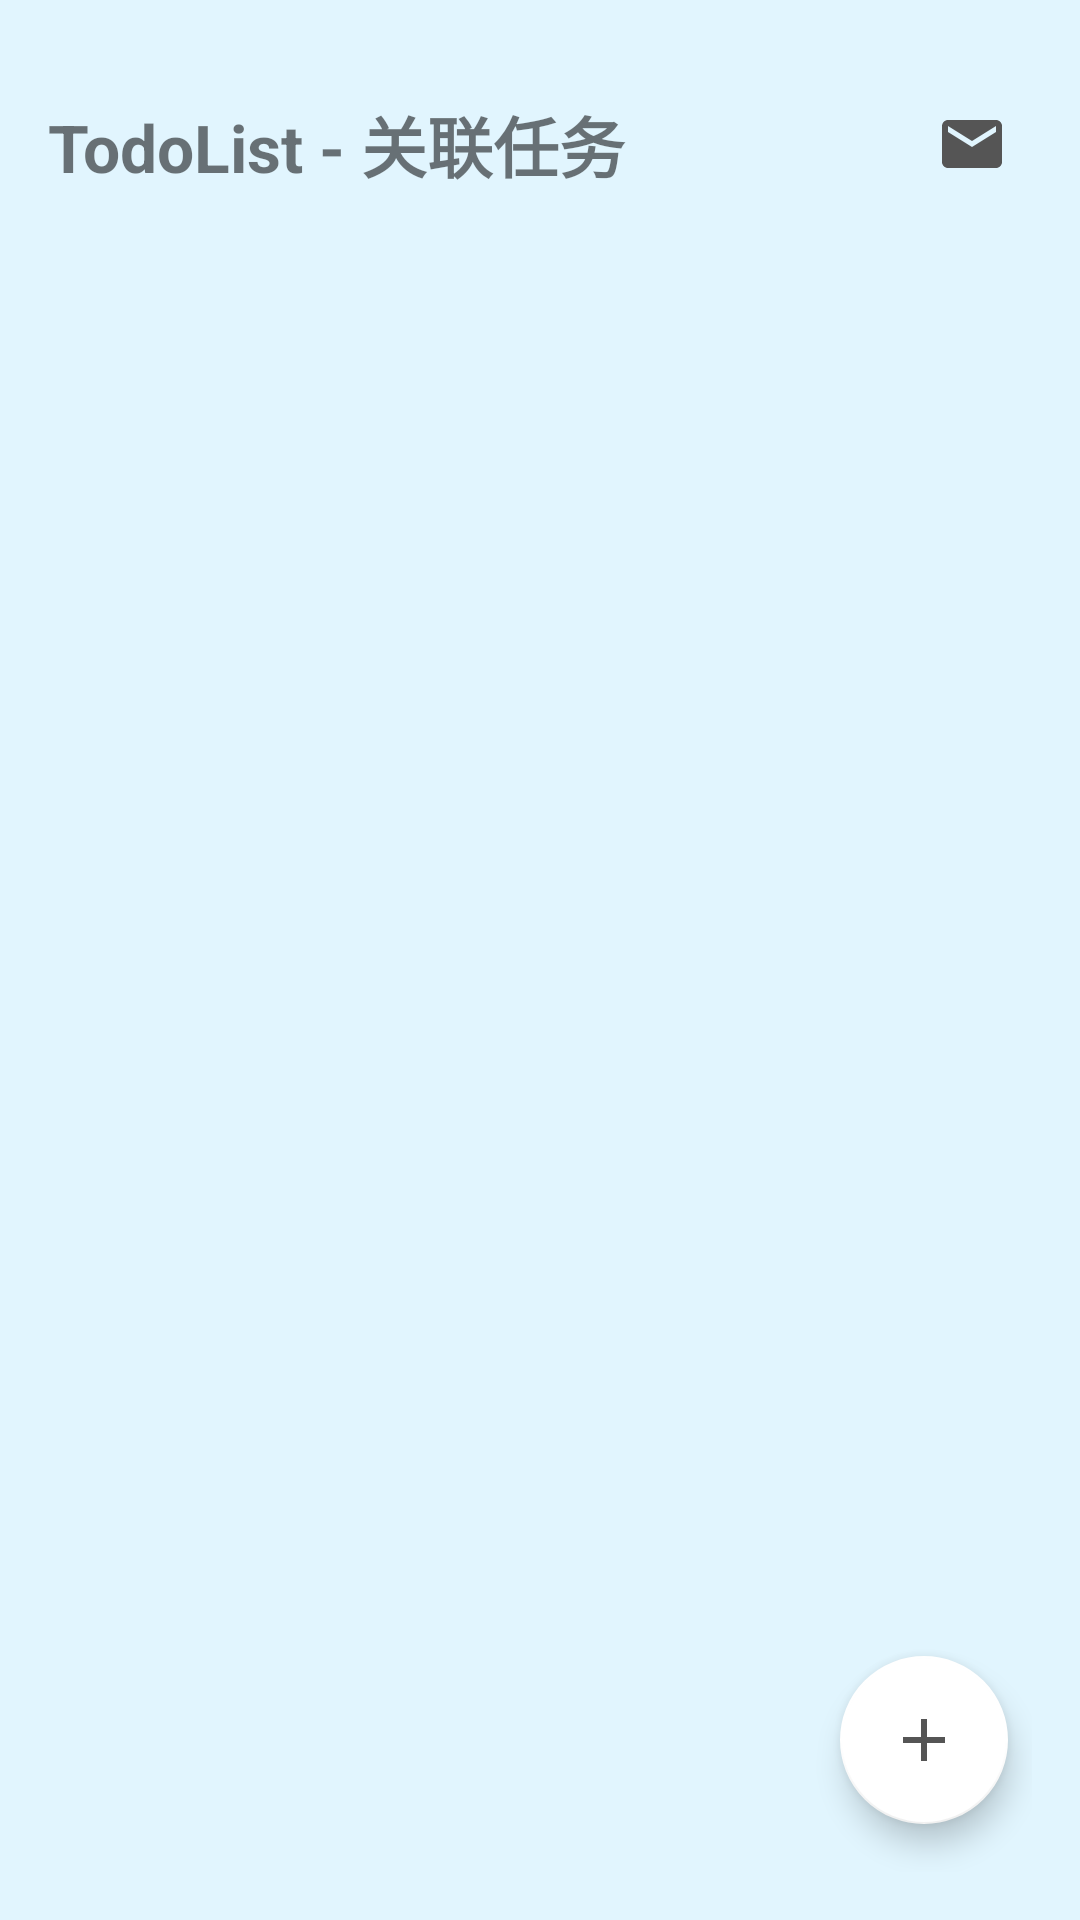

Named icons in this screenshot (1080 x 1920) and their centers, (x=x, y=y):
mail: (x=972, y=144)
添加任务: (x=924, y=1740)
